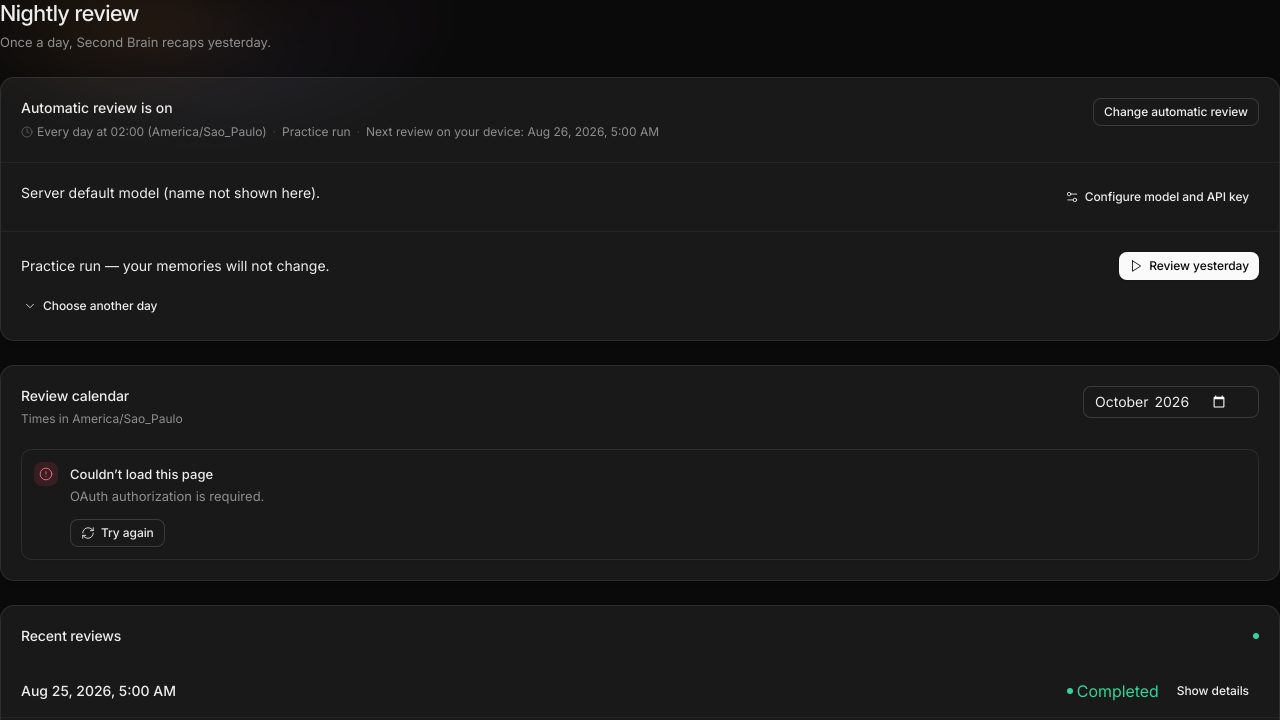
Test: DreamingPage › keeps job identifiers and retry information behind review details
Expected: the text "Completed" is shown, x1=1067 y1=679 x2=1159 y2=703
Expected: the text "daily-dreaming:2026-08-24" is not shown
Click the button "Show details" at (1213,691), box x1=1167 y1=677 x2=1259 y2=705
(page scrolled)
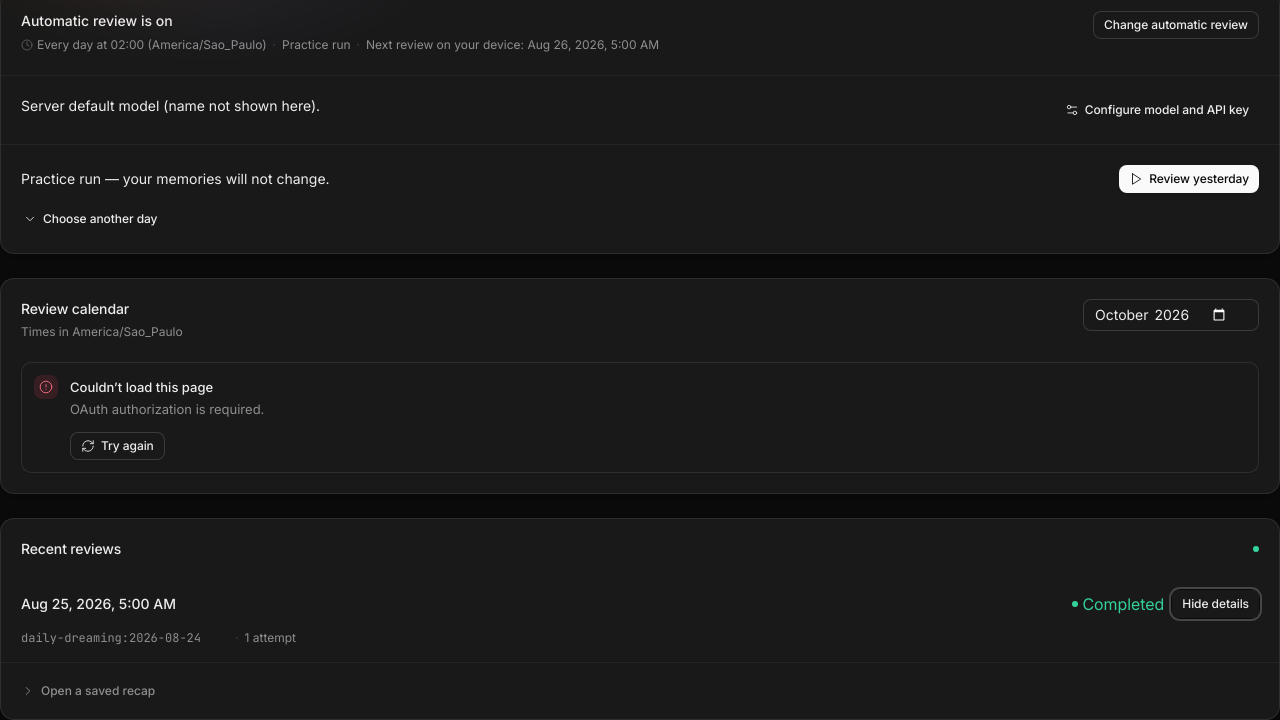
Result: the text "daily-dreaming:2026-08-24" is shown at x1=21 y1=630 x2=201 y2=646
Result: the text "1 attempt" is shown at x1=244 y1=628 x2=296 y2=648
